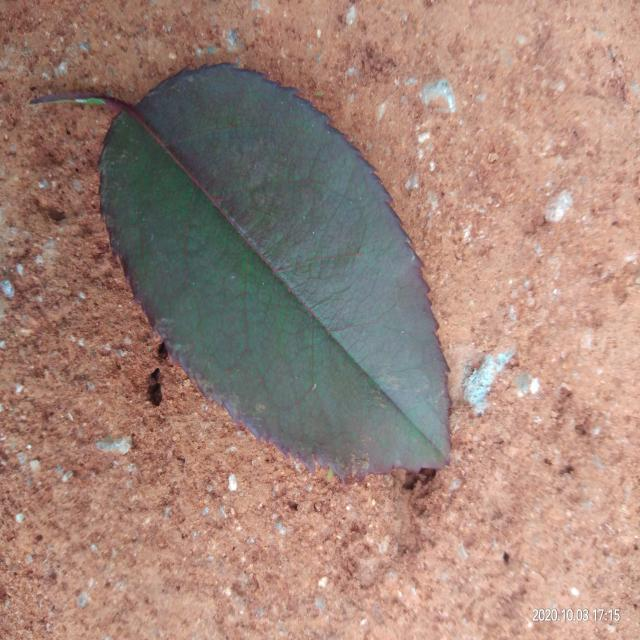rose: (41, 65, 450, 478)
